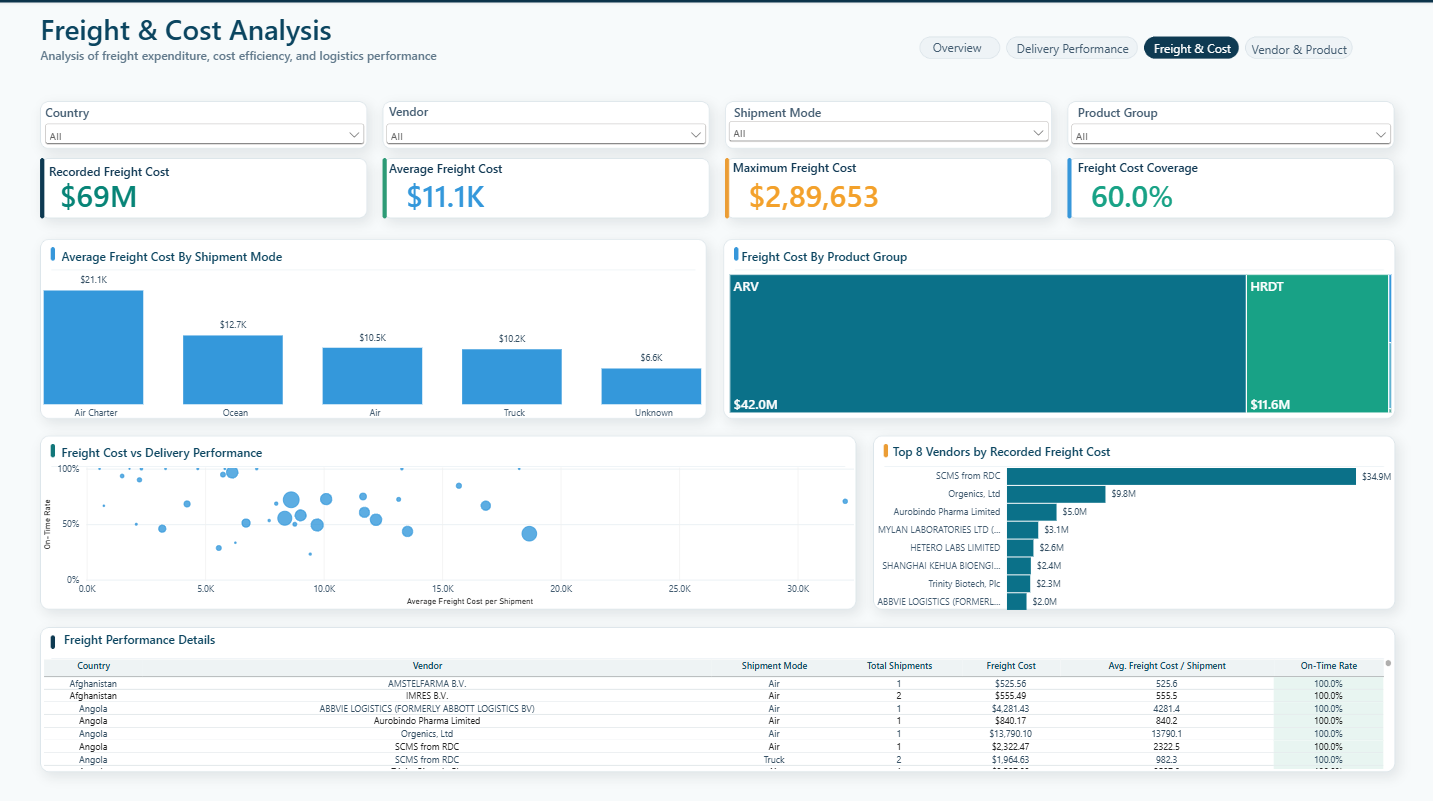

The dashboard page shown, as its layout file describes it:
{"tool":"powerbi","page":{"name":"Freight & Cost Analysis","canvas":[1920,1080],"ordinal":2},"visuals":[{"type":"textbox","box":[1247.8,52.2,102.2,36.7],"z":0},{"type":"textbox","box":[1542.8,53.3,111.1,36.7],"z":1000},{"type":"textbox","box":[1673.3,54.4,138.9,36.7],"z":2000},{"type":"textbox","box":[1358.9,53.3,164.4,36.7],"z":3000},{"type":"textbox","box":[61.5,139.2,78.5,29.2],"z":4000},{"type":"textbox","box":[521.4,137.1,78.5,29.2],"z":5000},{"type":"textbox","box":[1441.1,137.8,120,28.9],"z":6000},{"type":"textbox","box":[981.1,138.9,143.3,28.9],"z":7000},{"type":"slicer","fields":{"Values":["Shipments.country"]},"box":[56,160,436,46],"z":8000},{"type":"slicer","fields":{"Values":["Shipments.vendor"]},"box":[512,160,436.7,46],"z":9000},{"type":"slicer","fields":{"Values":["Shipments.shipment_mode"]},"box":[970,156.7,436.7,49.3],"z":10000},{"type":"slicer","fields":{"Values":["Shipments.product_group"]},"box":[1428,160,436.7,46],"z":11000},{"type":"textbox","box":[66.3,217.2,208,22.1],"z":12000},{"type":"cardVisual","fields":{"Data":["Shipments.Recorded Freight Cost"]},"box":[65,235,208.3,51.7],"z":13000},{"type":"textbox","box":[521.6,214.3,208,22.1],"z":14000},{"type":"cardVisual","fields":{"Data":["Shipments.Average Freight Cost per Shipment"]},"box":[528,234,262,52],"z":15000},{"type":"textbox","box":[980.4,212.1,208,22.1],"z":16000},{"type":"cardVisual","fields":{"Data":["Shipments.Maximum Freight Cost"]},"box":[985,233.8,209,52],"z":17000},{"type":"textbox","box":[1441.1,211.7,208,22.1],"z":18000},{"type":"cardVisual","fields":{"Data":["Shipments.Freight Cost Coverage"]},"box":[1442.4,233.6,209,52],"z":19000},{"type":"clusteredColumnChart","fields":{"Category":["Shipments.shipment_mode"],"Y":["Shipments.Average Freight Cost per Shipment"]},"box":[25.7,341.4,954.3,240],"z":20000},{"type":"textbox","box":[84.3,330,307.1,22.9],"z":21000},{"type":"textbox","box":[991.7,330,307.1,22.9],"z":22000},{"type":"treemap","fields":{"Group":["Shipments.product_group"],"Values":["Shipments.Recorded Freight Cost"]},"box":[960,352.5,916.2,215],"z":23000},{"type":"textbox","box":[84.3,592.9,307.1,22.9],"z":24000},{"type":"scatterChart","fields":{"Category":["Shipments.country"],"Size":["Shipments.Total Shipments"],"X":["Shipments.Average Freight Cost per Shipment"],"Y":["Shipments.On-Time Rate"]},"box":[43,602,1129,222],"z":25000},{"type":"clusteredBarChart","fields":{"Category":["Shipments.vendor"],"Y":["Shipments.Recorded Freight Cost"]},"box":[1145,603,731.2,228],"z":26000},{"type":"textbox","box":[1193.8,591.2,307.1,22.9],"z":27000},{"type":"textbox","box":[86,844,306.7,23.3],"z":28000},{"type":"tableEx","fields":{"Values":["Shipments.country","Shipments.vendor","Shipments.shipment_mode","Shipments.Total Shipments","Shipments.Recorded Freight Cost Display","Shipments.Average Freight Cost per Shipment","Shipments.On-Time Rate"]},"box":[43,867,1833,176],"z":29000},{"type":"textbox","box":[55,13,920,99],"z":30000}]}

Visuals, with their boxes in screenshot pixels (x1, y1, x2, y2), scaled from the page's 1920x1080 canvas onto the 1433x801 screenshot:
textbox: left=931, top=39, right=1008, bottom=66
textbox: left=1151, top=40, right=1234, bottom=67
textbox: left=1249, top=40, right=1353, bottom=68
textbox: left=1014, top=40, right=1137, bottom=67
textbox: left=46, top=103, right=104, bottom=125
textbox: left=389, top=102, right=448, bottom=123
textbox: left=1076, top=102, right=1165, bottom=124
textbox: left=732, top=103, right=839, bottom=124
slicer - Shipments.country: left=42, top=119, right=367, bottom=153
slicer - Shipments.vendor: left=382, top=119, right=708, bottom=153
slicer - Shipments.shipment_mode: left=724, top=116, right=1050, bottom=153
slicer - Shipments.product_group: left=1066, top=119, right=1392, bottom=153
textbox: left=49, top=161, right=205, bottom=177
cardVisual - Shipments.Recorded Freight Cost: left=49, top=174, right=204, bottom=213
textbox: left=389, top=159, right=545, bottom=175
cardVisual - Shipments.Average Freight Cost per Shipment: left=394, top=174, right=590, bottom=212
textbox: left=732, top=157, right=887, bottom=174
cardVisual - Shipments.Maximum Freight Cost: left=735, top=173, right=891, bottom=212
textbox: left=1076, top=157, right=1231, bottom=173
cardVisual - Shipments.Freight Cost Coverage: left=1077, top=173, right=1233, bottom=212
clusteredColumnChart - Shipments.shipment_mode x Shipments.Average Freight Cost per Shipment: left=19, top=253, right=731, bottom=431
textbox: left=63, top=245, right=292, bottom=262
textbox: left=740, top=245, right=969, bottom=262
treemap - Shipments.product_group x Shipments.Recorded Freight Cost: left=716, top=261, right=1400, bottom=421
textbox: left=63, top=440, right=292, bottom=457
scatterChart - Shipments.country x Shipments.Total Shipments: left=32, top=446, right=875, bottom=611
clusteredBarChart - Shipments.vendor x Shipments.Recorded Freight Cost: left=855, top=447, right=1400, bottom=616
textbox: left=891, top=438, right=1120, bottom=455
textbox: left=64, top=626, right=293, bottom=643
tableEx - Shipments.country x Shipments.vendor: left=32, top=643, right=1400, bottom=774
textbox: left=41, top=10, right=728, bottom=83
